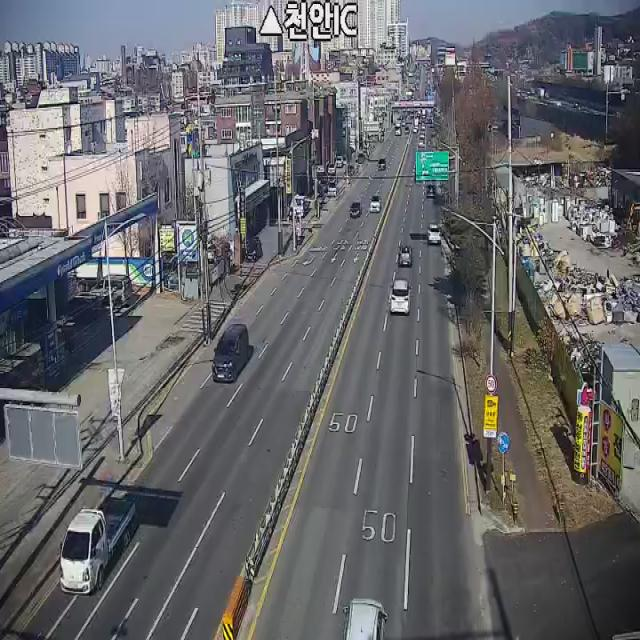Car: (212, 323, 249, 382), (342, 597, 388, 640), (90, 274, 132, 305), (390, 280, 412, 314), (245, 238, 262, 262), (398, 246, 412, 267), (427, 225, 441, 246), (370, 196, 381, 213), (350, 203, 361, 218), (426, 184, 436, 197), (378, 157, 386, 170)
Truck: (61, 498, 136, 594)
